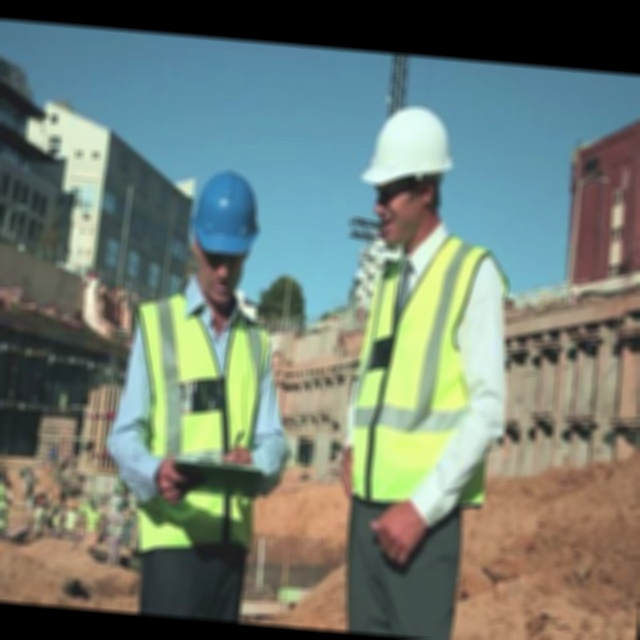Con_Casco: (359, 101, 454, 244), (185, 165, 263, 303)
Con_Chaleco: (345, 243, 513, 509), (123, 293, 275, 558)
